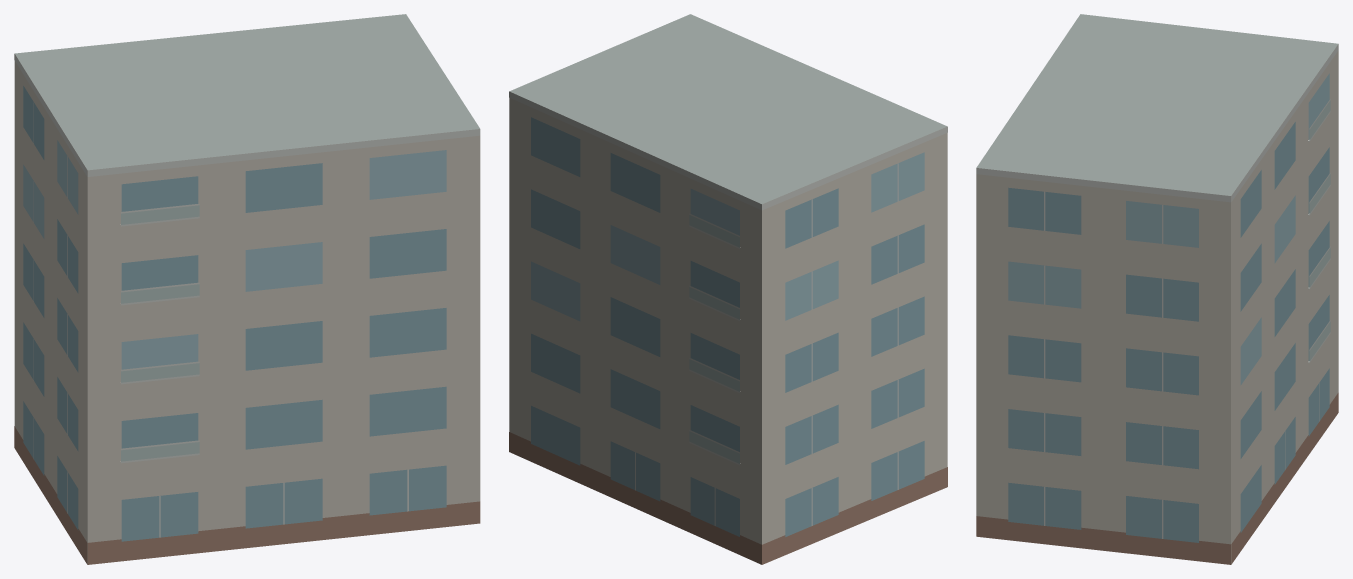
Rendered from survey-upis-32642474.glb.
The picture shows the model from 3 angles, left to right: view 1: azimuth 30°, elevation 25°; view 2: azimuth 150°, elevation 25°; view 3: azimuth 270°, elevation 25°; orthographic projection. The views are drawn at different scales.
Parts seen in each view (by area): view 1: survey-upis-32642474.tmp; view 2: survey-upis-32642474.tmp; view 3: survey-upis-32642474.tmp.
Part boxes in pixels (x1,y1,x2,y2): survey-upis-32642474.tmp: [14, 14, 480, 564]; survey-upis-32642474.tmp: [509, 14, 947, 564]; survey-upis-32642474.tmp: [976, 14, 1338, 564].
Size of the model in its own units: 15.15 by 14.3 by 12.74.
